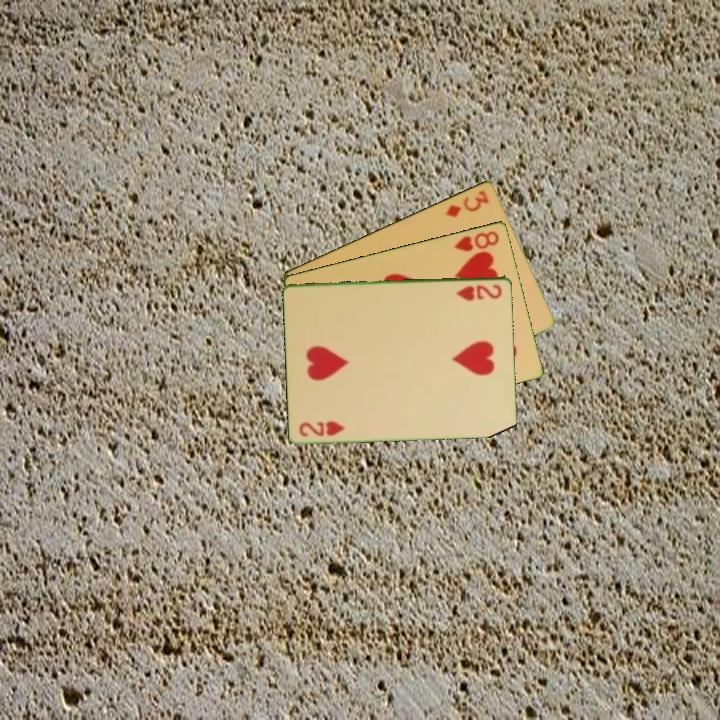2h: (453, 280, 505, 303), (296, 417, 348, 439)
3d: (442, 186, 492, 220)
8h: (451, 227, 502, 254)
